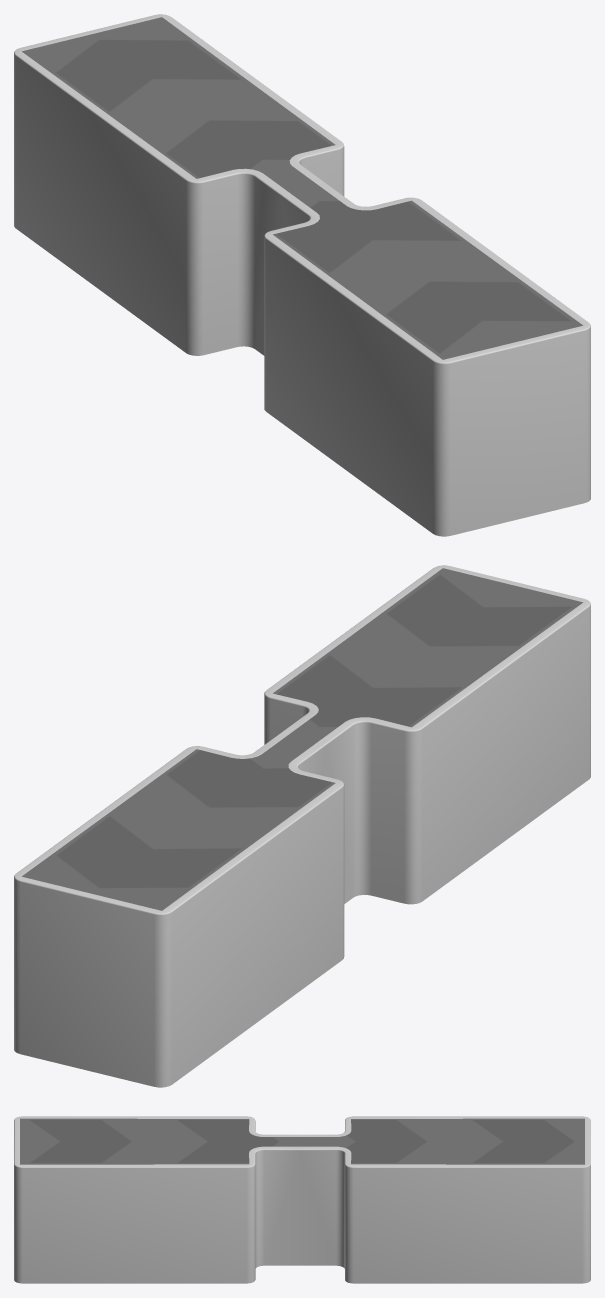
Rendered from Platform_Middle1.fbx.
3 renders of one model, top to bottom at view 1: azimuth 30°, elevation 25°; view 2: azimuth 150°, elevation 25°; view 3: azimuth 270°, elevation 25°, orthographic. The views are drawn at different scales.
Visible parts, largest first — view 1: Platform_Middle1; view 2: Platform_Middle1; view 3: Platform_Middle1.
Boxes of the visible parts, <box> form: Platform_Middle1: <box>14,14,590,536</box>; Platform_Middle1: <box>14,565,590,1087</box>; Platform_Middle1: <box>14,1116,590,1283</box>.
Size of the model in its own units: 633 by 671 by 3016.
2 materials, 1 textured.
